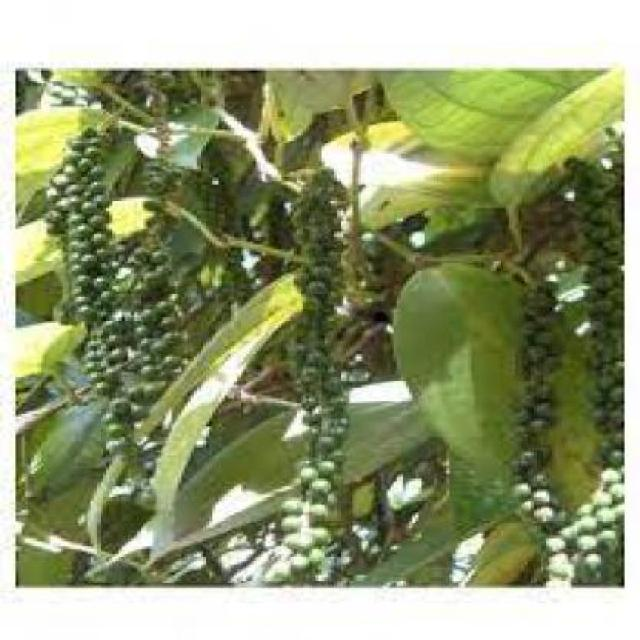UNRIPE: (568, 151, 631, 606), (39, 133, 126, 399), (288, 170, 343, 576), (119, 142, 182, 436), (516, 269, 559, 571)
